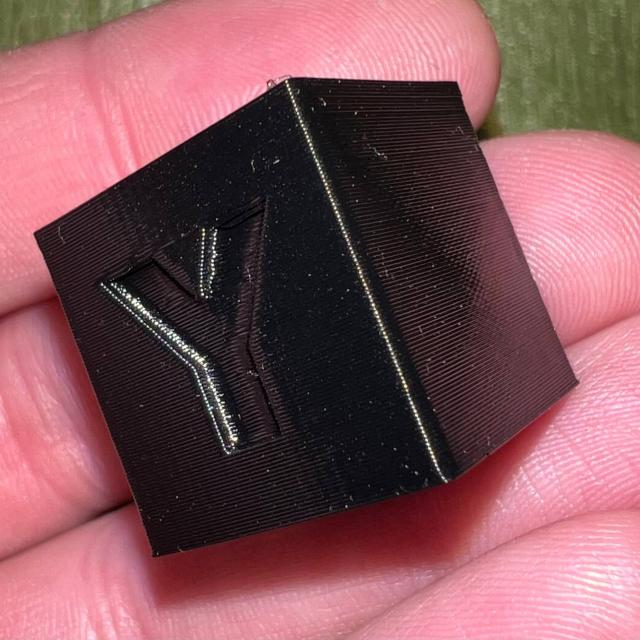Without deffect: (23, 59, 580, 531)
